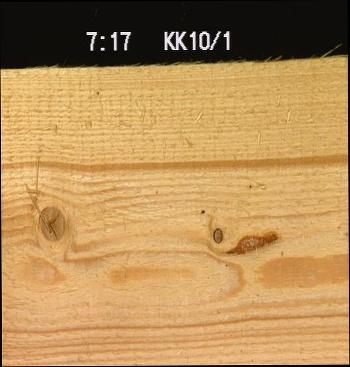dry_knot: (211, 226, 224, 244)
sound_knot: (36, 202, 65, 242)
